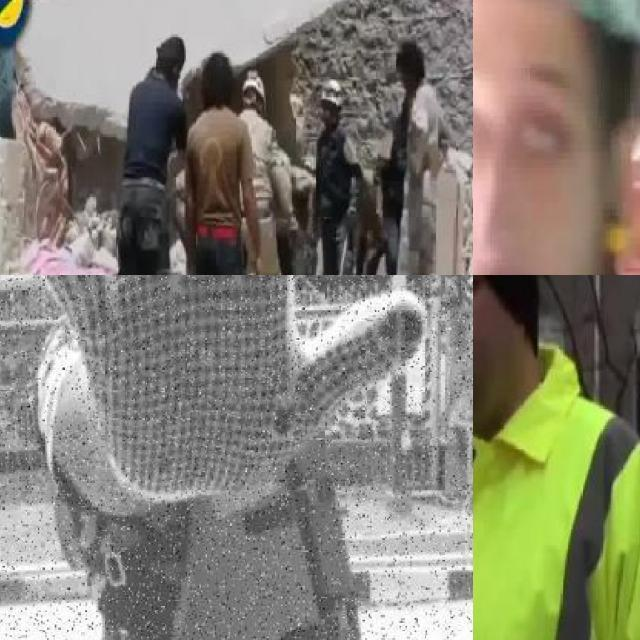apron: (0, 275, 433, 513)
